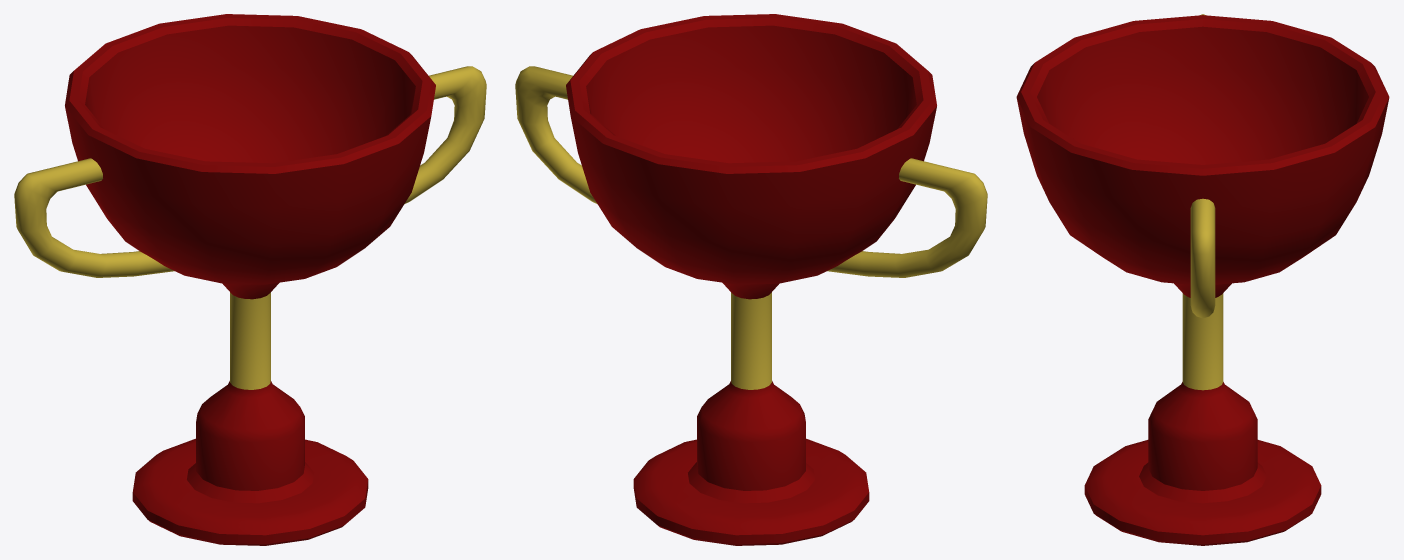
The model's file is Cup.FBX.
3 views of the same model, side by side, from view 1: azimuth 30°, elevation 25°; view 2: azimuth 150°, elevation 25°; view 3: azimuth 270°, elevation 25° (orthographic).
Parts seen in each view (by area): view 1: Cup; view 2: Cup; view 3: Cup.
Part boxes in pixels (box(x1,y1,x2,y2)): Cup: box(14, 14, 486, 545); Cup: box(515, 14, 987, 545); Cup: box(1016, 14, 1389, 545).
Bounding box in the file's own units: 1105 × 762 × 914.
